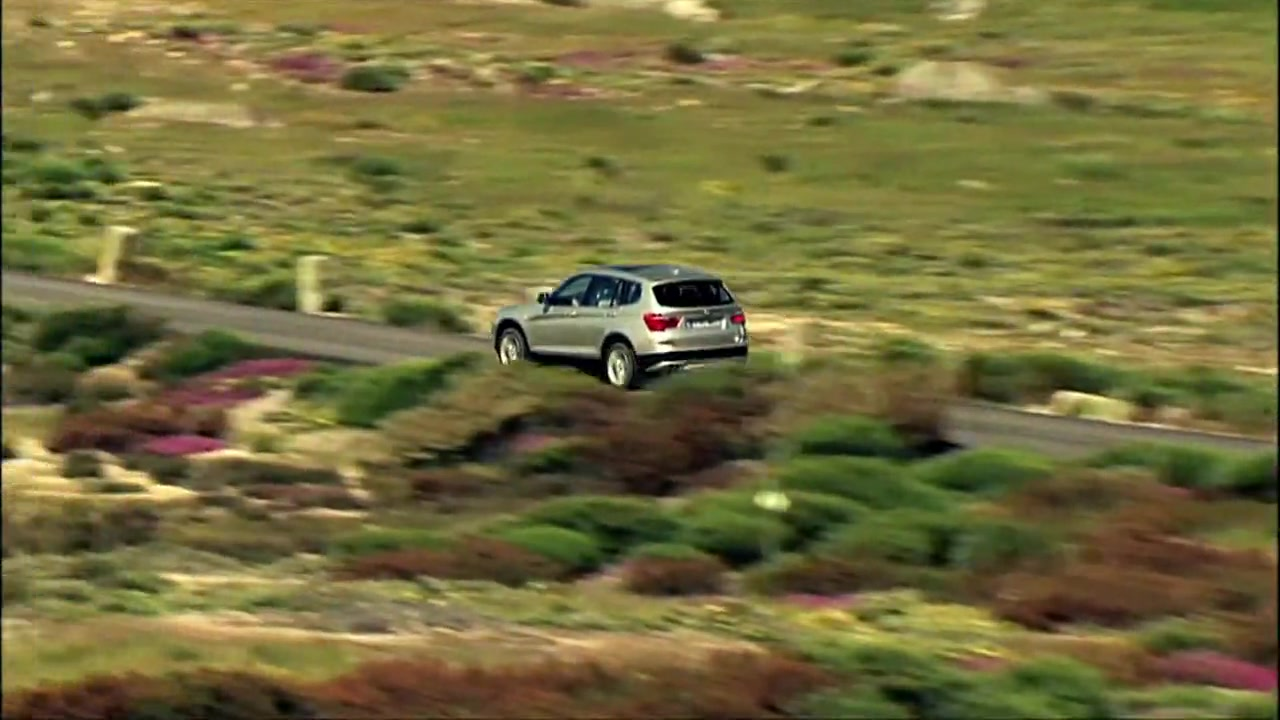car: (491, 261, 753, 395)
